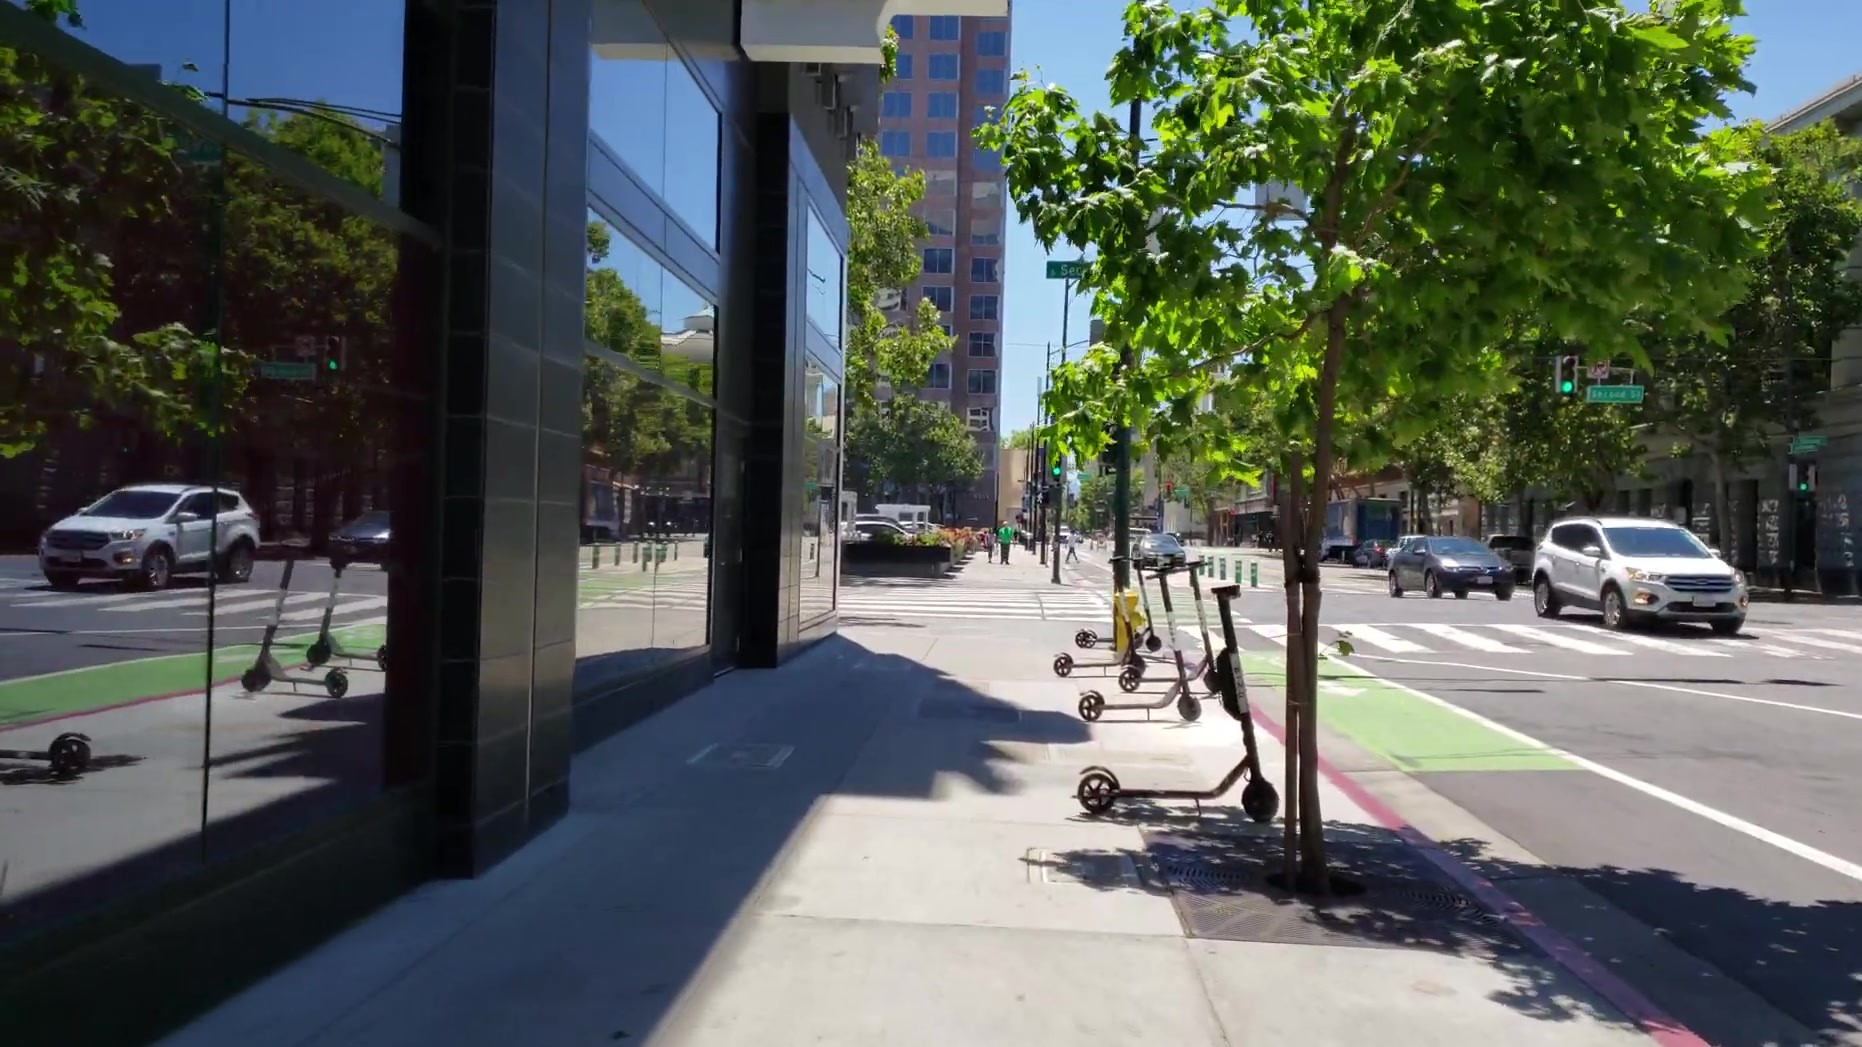vehicle: (1526, 516, 1752, 640), (1386, 537, 1513, 603)
